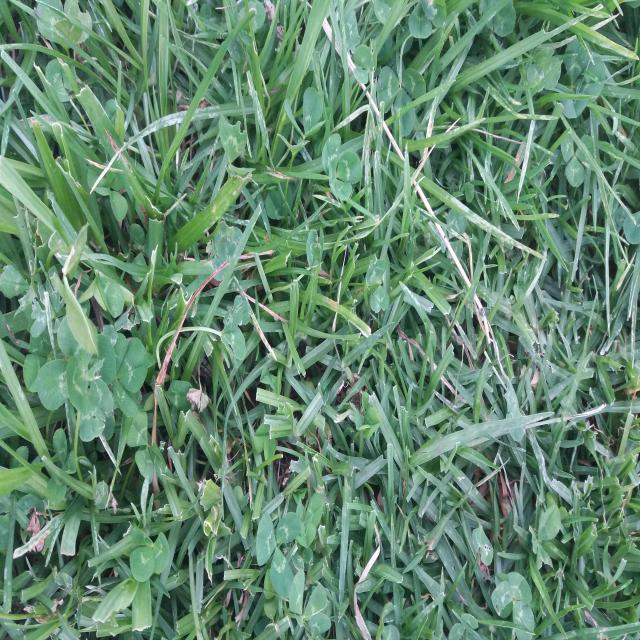Four Leaf Clover: (322, 133, 362, 201), (255, 473, 283, 513)
